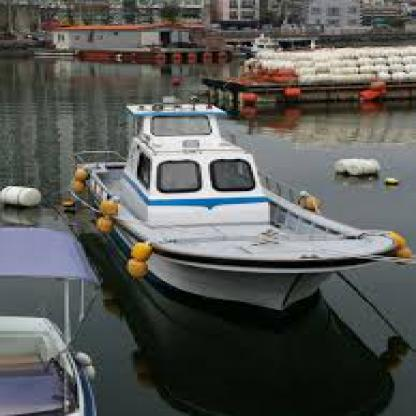fish-b: (58, 90, 414, 331)
